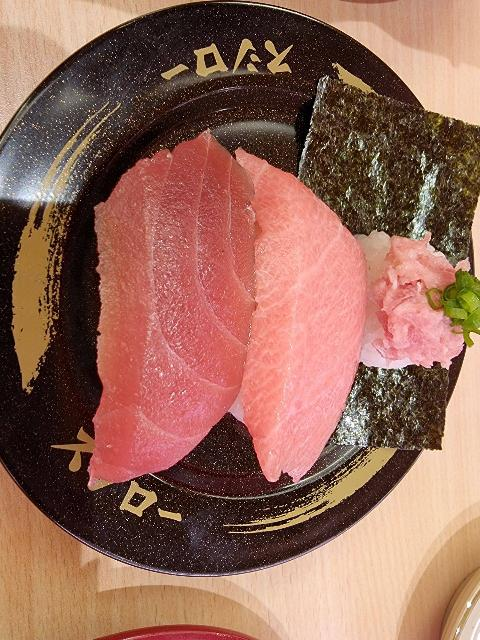janback: (28, 4, 455, 525)
janred: (70, 626, 252, 640)
